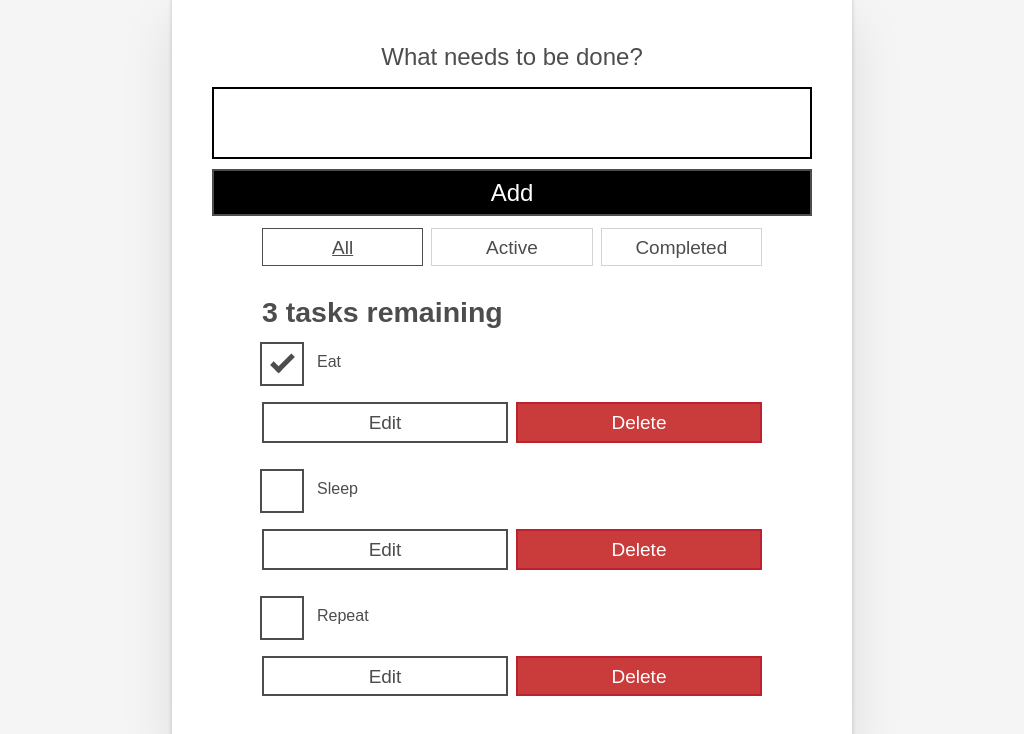
Test: to-do list › can edit task
Step 1. Type "edit test task" into the field with id "new-todo-input" → (512,123), box [212,87,812,159]
Then press Enter
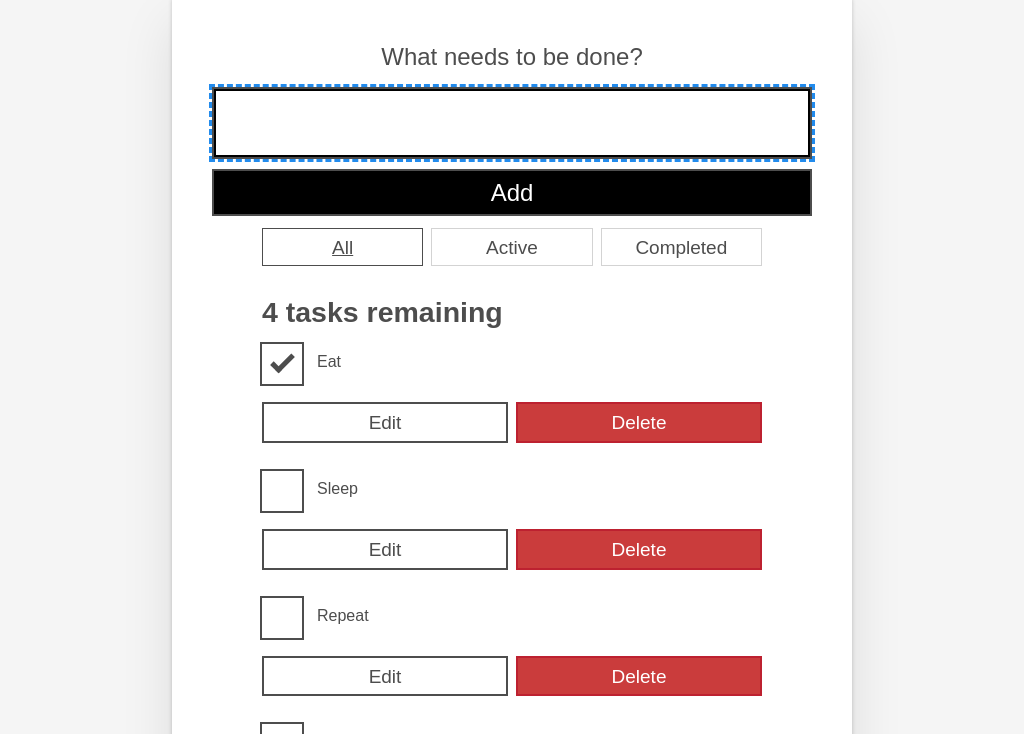
Step 2. Scroll
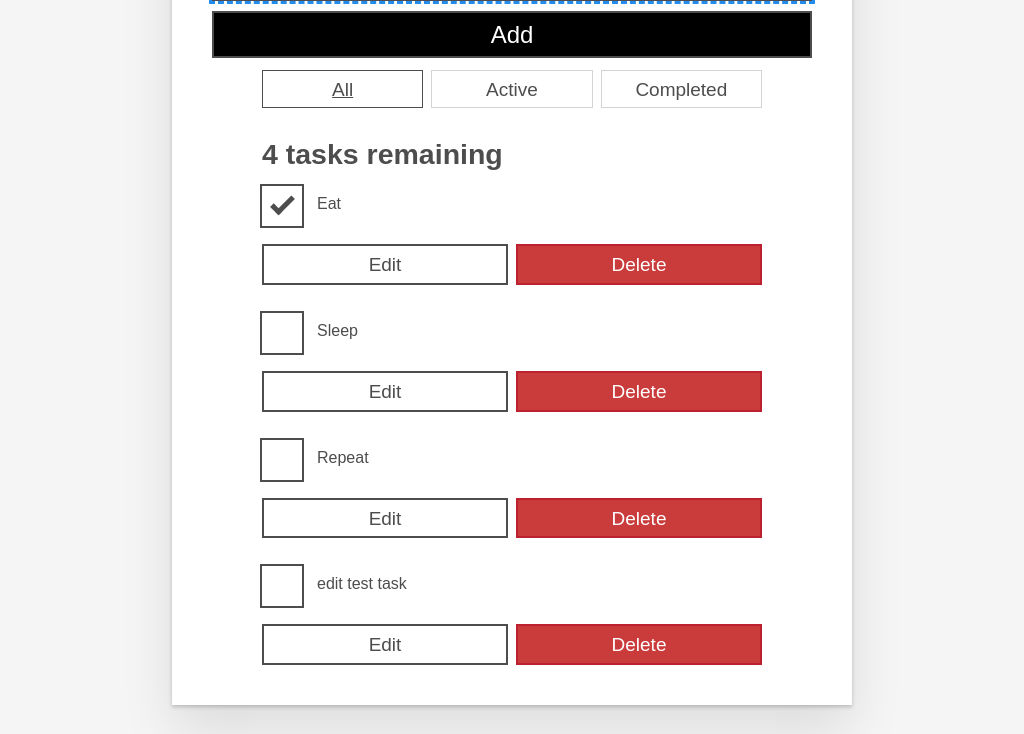
Step 3. Click the button with id "edit" → (385,645), box [262,624,508,665]
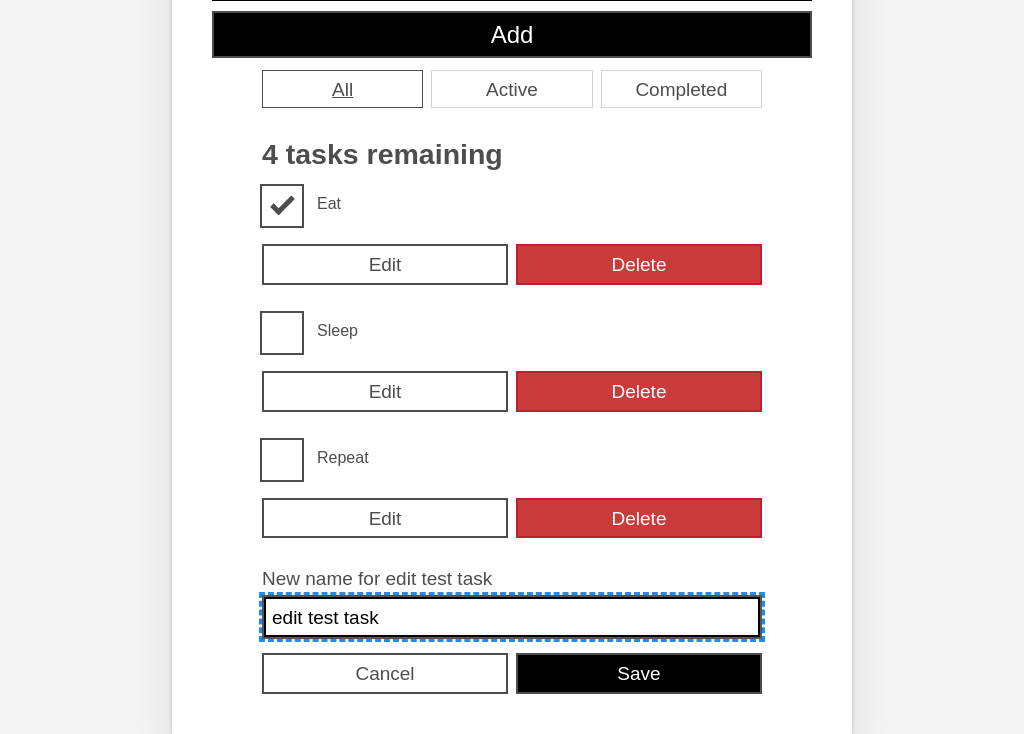
Step 4. Type " edited" into the field with class "todo-text" → (512,617), box [262,595,762,639]
Then press Enter
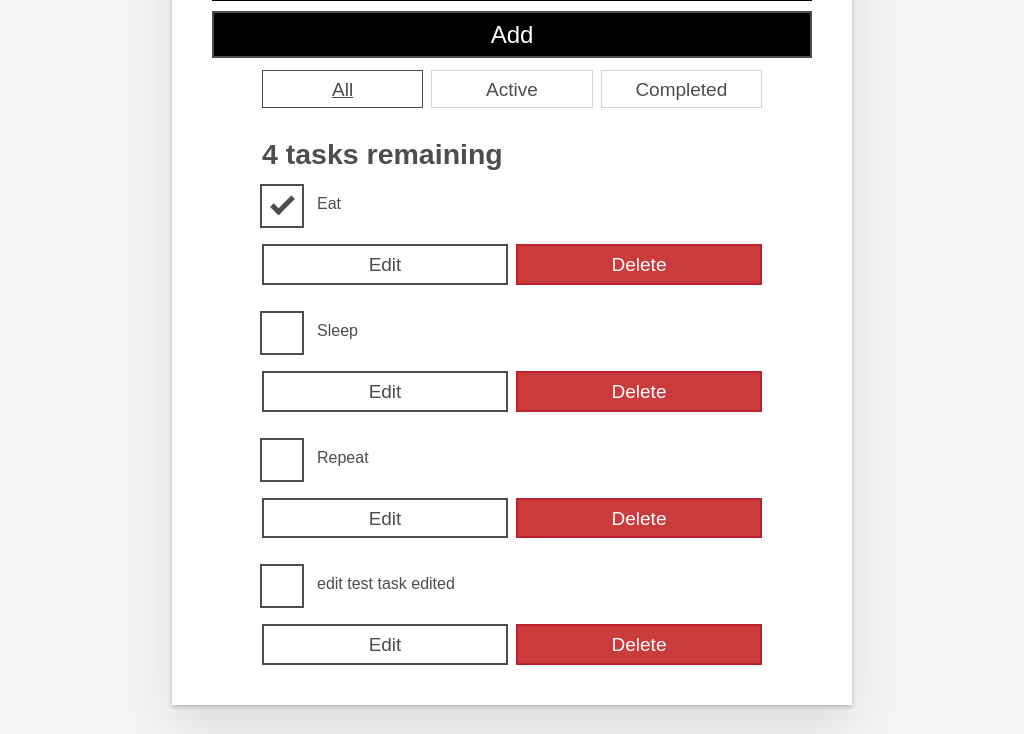
Now the checkbox with class "todo-label" reads "edit test task edited", box [317,575,455,592]
